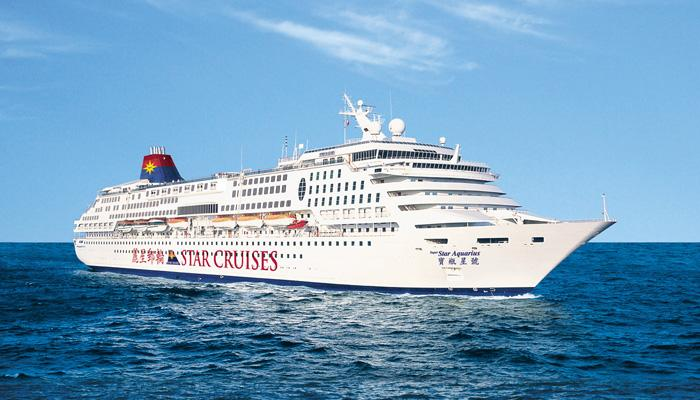youlun: (71, 94, 627, 295)
